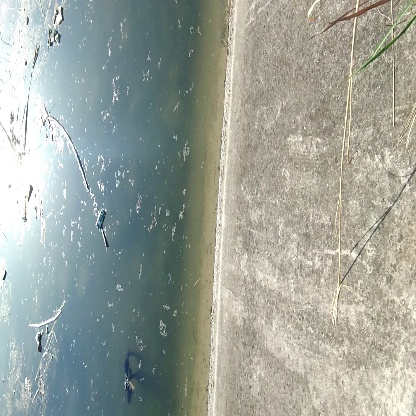branch: (44, 109, 100, 195)
